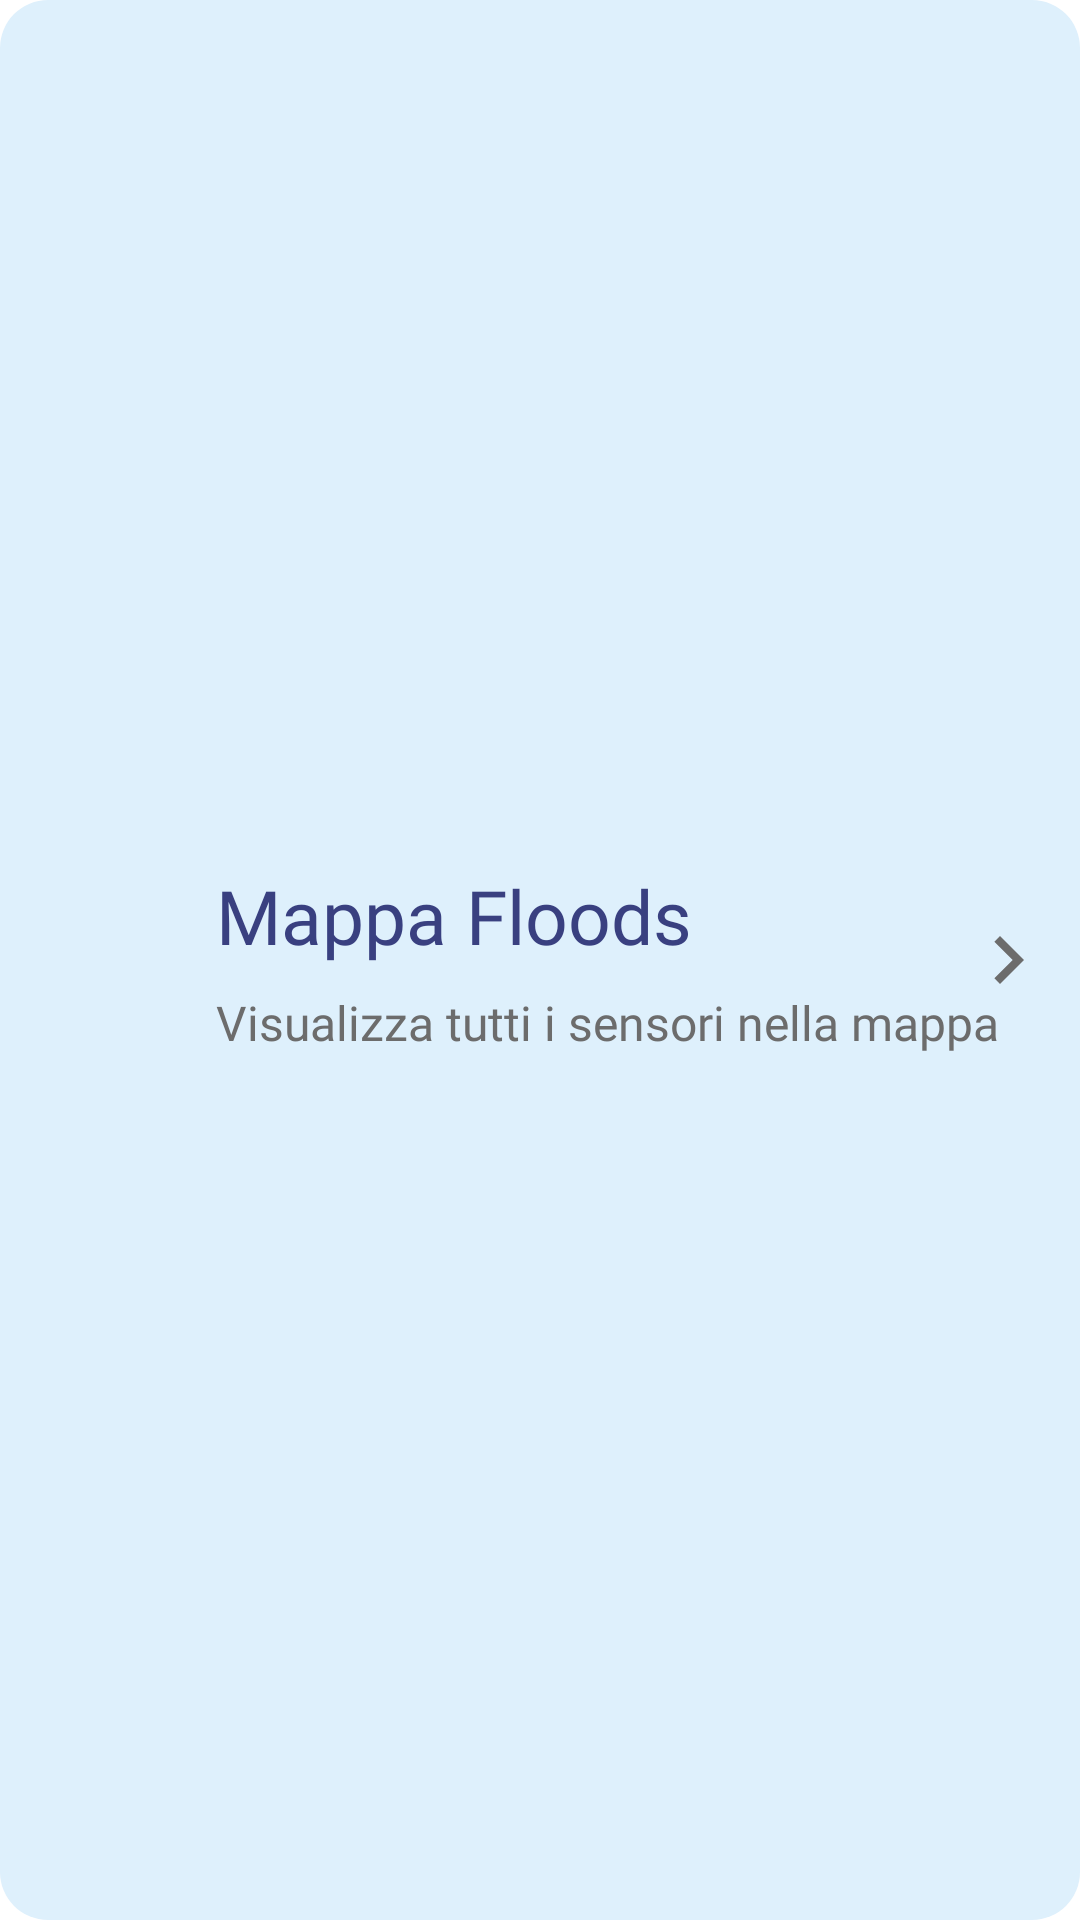

Locate icon controls on the screen. Image size 1080×1920, boxes as (x1, y1, x2, y2).
arrow right: (994, 936, 1024, 984)
